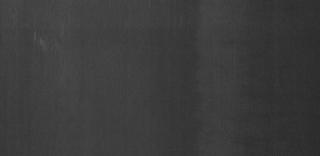silk spot: (30, 29, 70, 58), (219, 35, 247, 63)
